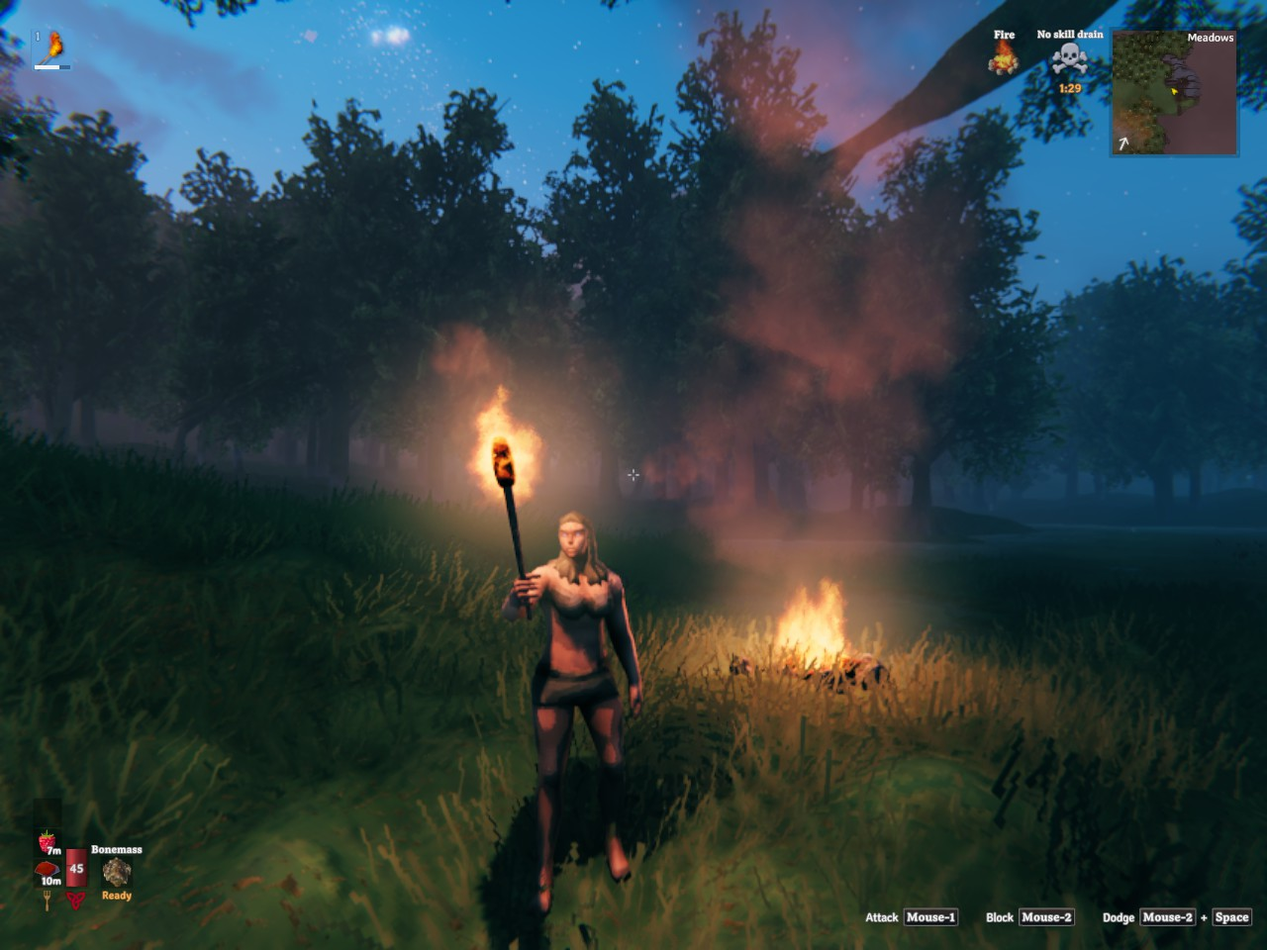Fire: (715, 567, 904, 696)
Fire Status: (979, 26, 1032, 82)
Torch: (493, 438, 526, 579)
